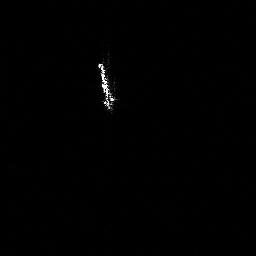ship: (95, 60, 119, 114)
